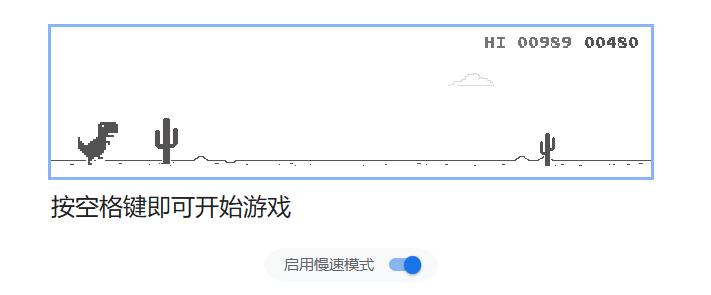cactus: (152, 118, 182, 165), (537, 134, 560, 170)
dino: (76, 120, 120, 167)
